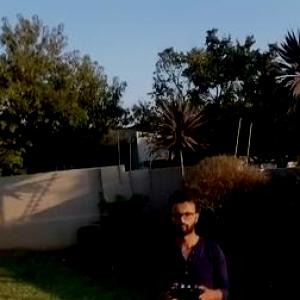follow: (148, 184, 235, 299)
